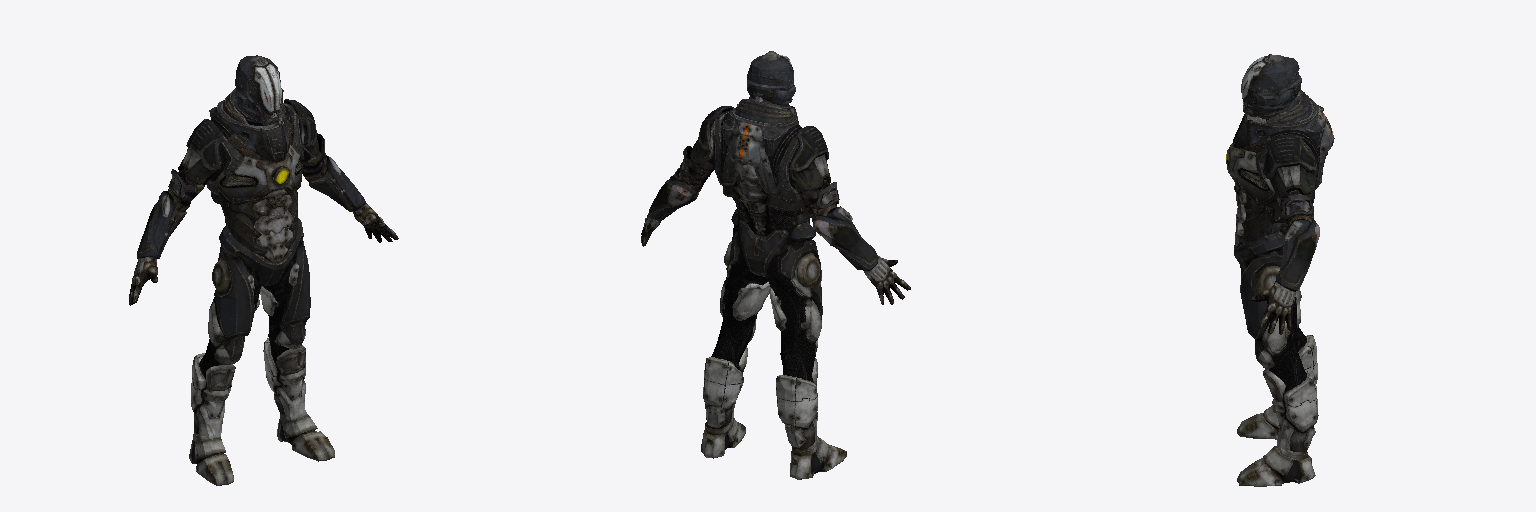
The picture shows the model from 3 angles: view 1: azimuth 30°, elevation 25°; view 2: azimuth 150°, elevation 25°; view 3: azimuth 270°, elevation 25°; orthographic projection.
Parts seen in each view (by area): view 1: default; view 2: default; view 3: default.
Boxes of the visible parts, box(x1,y1,x2,y2) form: default: box(129, 55, 398, 485); default: box(641, 51, 910, 479); default: box(1226, 54, 1334, 486).
Bounding box in the file's own units: 1.42 × 2.05 × 0.5029.
1 materials, 1 textured.